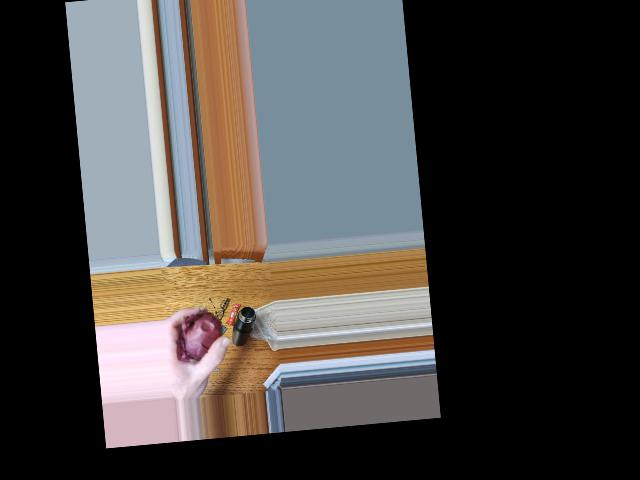onion: (177, 311, 223, 366)
